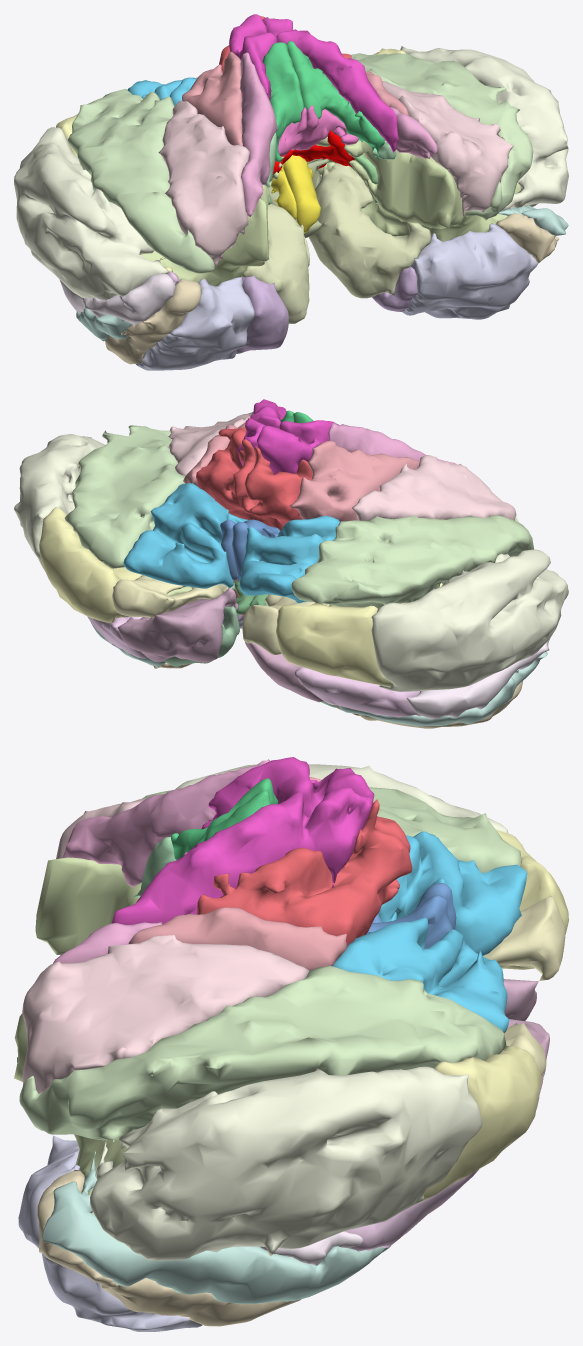
Rendered from cerebellum.lod1.glb.
The picture shows the model from 3 angles, top to bottom: view 1: azimuth 30°, elevation 25°; view 2: azimuth 150°, elevation 25°; view 3: azimuth 270°, elevation 25°; orthographic projection. The views are drawn at different scales.
Visible parts, largest first — view 1: cerebellar-lobule-viia-crusi-l2-r, cerebellar-lobule-vi-l-r, cerebellar-lobule-v-l-r, cerebellar-lobule-viiib-l-l, cerebellar-lobule-ix-m-l, white-matter-of-hemisphere-of-cerebellum-l, cerebellar-lobule-viia-crusi-l2-l, cerebellar-lobule-vi-l-l, cerebellar-lobule-v-l-l, cerebellar-lobule-viiib-l-r, cerebellar-lobule-iv-v-l, cerebellar-lobule-ix-m-r (+21 smaller); view 2: cerebellar-lobule-viia-crusi-l2-r, cerebellar-lobule-vi-l-r, cerebellar-lobule-vi-l-l, cerebellar-lobule-vi-m-l, cerebellar-lobule-viia-crusi-l1-r, cerebellar-lobule-v-l-r, cerebellar-lobule-v-m-r, cerebellar-lobule-viia-crusi-l1-l, cerebellar-lobule-viia-crusii-m-l, cerebellar-lobule-vi-m-r, cerebellar-lobule-viia-crusi-l2-l, cerebellar-lobule-v-v-l (+17 smaller); view 3: cerebellar-lobule-viia-crusi-l2-l, cerebellar-lobule-vi-l-l, cerebellar-lobule-v-l-l, cerebellar-lobule-viib-l-l, cerebellar-lobule-iv-v-l, cerebellar-lobule-v-v-l, cerebellar-lobule-vi-m-l, cerebellar-lobule-vi-m-r, cerebellar-lobule-iv-m-r, cerebellar-lobule-viia-crusi-l1-l, white-matter-of-hemisphere-of-cerebellum-r, cerebellar-lobule-viiib-l-l (+18 smaller).
Part boxes in pixels (<box>): cerebellar-lobule-viia-crusi-l2-r: <box>14,127,169,300</box>; cerebellar-lobule-vi-l-r: <box>68,89,214,273</box>; cerebellar-lobule-v-l-r: <box>158,100,249,265</box>; cerebellar-lobule-viiib-l-l: <box>402,223,538,319</box>; cerebellar-lobule-ix-m-l: <box>304,163,431,298</box>; white-matter-of-hemisphere-of-cerebellum-l: <box>307,136,520,241</box>; cerebellar-lobule-viia-crusi-l2-l: <box>400,46,568,210</box>; cerebellar-lobule-vi-l-l: <box>350,53,533,220</box>; cerebellar-lobule-v-l-l: <box>382,81,513,216</box>; cerebellar-lobule-viiib-l-r: <box>136,277,254,370</box>; cerebellar-lobule-iv-v-l: <box>262,17,398,152</box>; cerebellar-lobule-ix-m-r: <box>242,203,309,323</box>; cerebellar-lobule-viia-crusi-l2-r: <box>371,549,568,691</box>; cerebellar-lobule-vi-l-r: <box>291,515,533,608</box>; cerebellar-lobule-vi-l-l: <box>64,425,185,568</box>; cerebellar-lobule-vi-m-l: <box>123,483,247,588</box>; cerebellar-lobule-viia-crusi-l1-r: <box>276,583,442,686</box>; cerebellar-lobule-v-l-r: <box>352,455,516,520</box>; cerebellar-lobule-v-m-r: <box>290,440,419,521</box>; cerebellar-lobule-viia-crusi-l1-l: <box>39,507,142,623</box>; cerebellar-lobule-viia-crusii-m-l: <box>117,588,238,662</box>; cerebellar-lobule-vi-m-r: <box>239,515,339,603</box>; cerebellar-lobule-viia-crusi-l2-l: <box>14,434,104,570</box>; cerebellar-lobule-v-v-l: <box>196,417,283,531</box>; cerebellar-lobule-viia-crusi-l2-l: <box>90,1066,482,1260</box>; cerebellar-lobule-vi-l-l: <box>19,965,506,1141</box>; cerebellar-lobule-v-l-l: <box>22,935,309,1093</box>; cerebellar-lobule-viib-l-l: <box>42,1150,390,1304</box>; cerebellar-lobule-iv-v-l: <box>112,787,372,924</box>; cerebellar-lobule-v-v-l: <box>197,799,412,945</box>; cerebellar-lobule-vi-m-l: <box>332,917,509,1033</box>; cerebellar-lobule-vi-m-r: <box>379,831,527,955</box>; cerebellar-lobule-iv-m-r: <box>62,759,269,887</box>; cerebellar-lobule-viia-crusi-l1-l: <box>418,1046,542,1203</box>; white-matter-of-hemisphere-of-cerebellum-r: <box>35,857,141,955</box>; cerebellar-lobule-viiib-l-l: <box>18,1135,202,1331</box>.
Bounding box in the file's own units: 0.1129 × 0.0625 × 0.0703.
